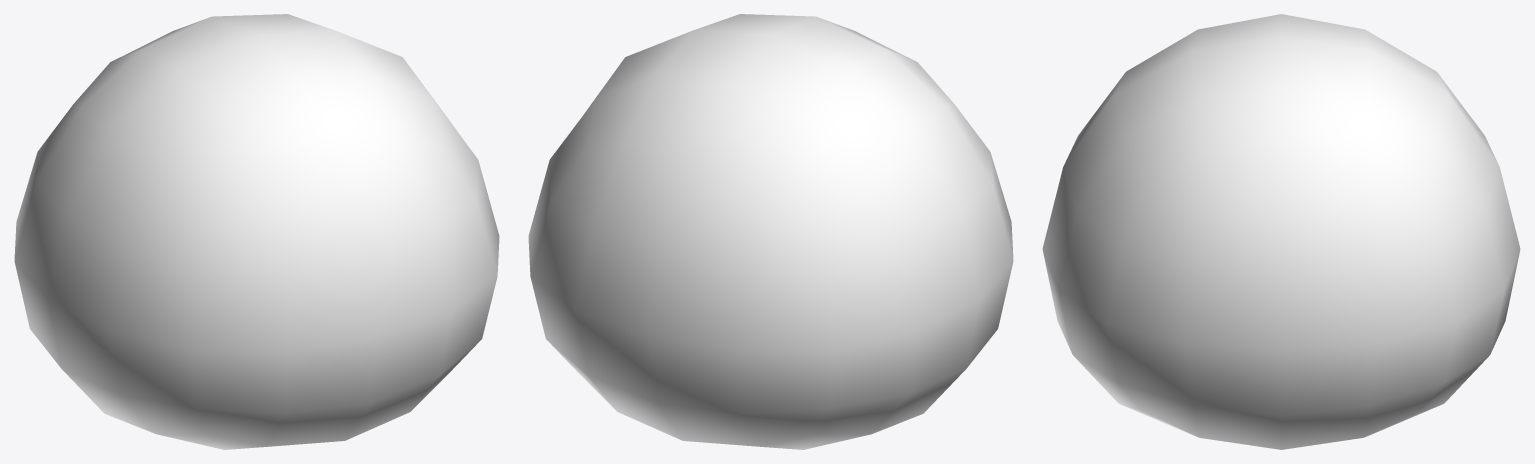
Rendered from slime.fbx.
3 renders of one model, left to right at view 1: azimuth 30°, elevation 25°; view 2: azimuth 150°, elevation 25°; view 3: azimuth 270°, elevation 25°, orthographic.
Visible parts, largest first — view 1: Slime; view 2: Slime; view 3: Slime.
Part boxes in pixels (x1,y1,x2,y2): Slime: (14, 14, 499, 449); Slime: (528, 14, 1013, 449); Slime: (1042, 14, 1520, 449).
Size of the model in its own units: 16.74 by 14.62 by 16.74.
1 material, 1 textured.
